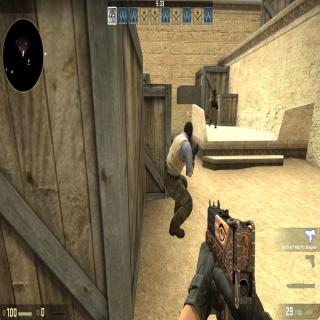CT-Body: (209, 88, 218, 126)
CT-Head: (212, 88, 216, 96)
T-Body: (165, 121, 195, 238)
T-Head: (182, 120, 194, 142)
